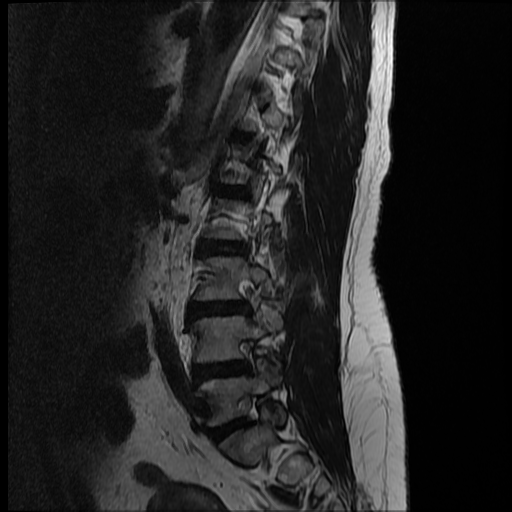LFS3: (234, 330, 267, 386)
